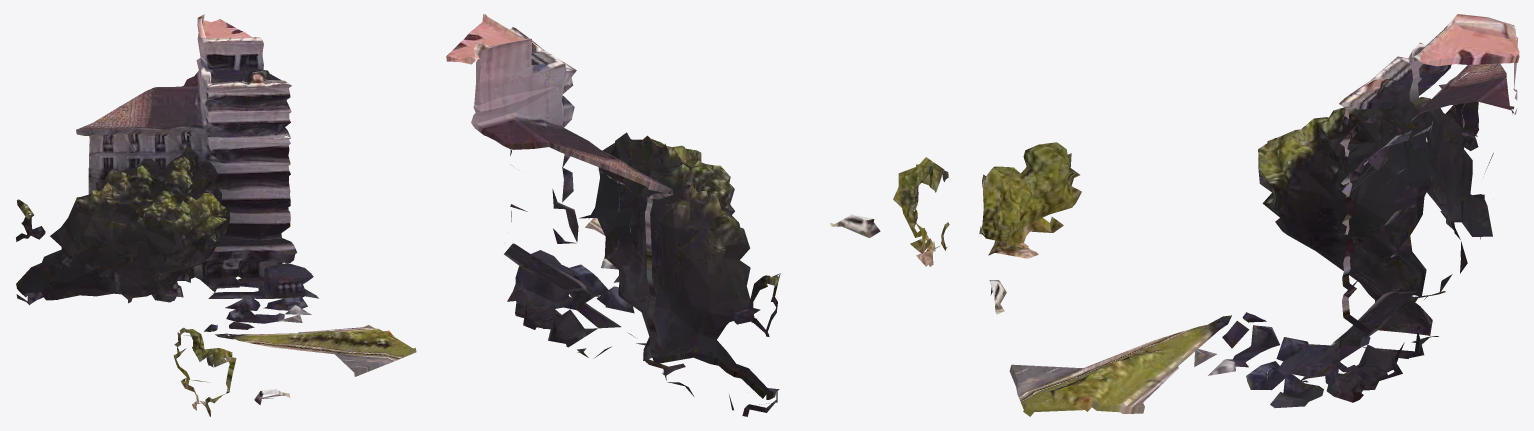
The picture shows the model from 3 angles, left to right: view 1: azimuth 30°, elevation 25°; view 2: azimuth 150°, elevation 25°; view 3: azimuth 270°, elevation 25°; orthographic projection. The views are drawn at different scales.
Parts seen in each view (by area): view 1: Mesh_0; view 2: Mesh_0; view 3: Mesh_0.
Part boxes in pixels (box(x1,y1,x2,y2)): Mesh_0: box(16, 14, 416, 416); Mesh_0: box(446, 14, 949, 416); Mesh_0: box(979, 14, 1519, 416).
Bounding box in the file's own units: 33.61 × 30.4 × 41.33.
Materials: 2 (2 with a texture image).
